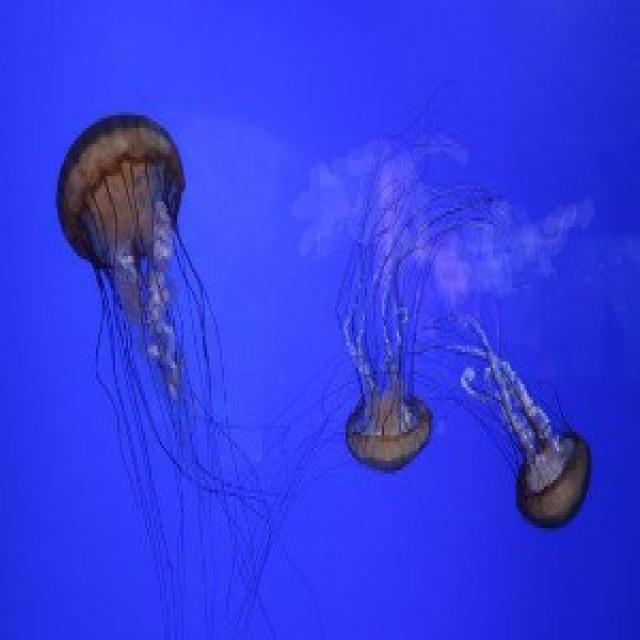Jellyfish: (53, 91, 195, 450), (340, 260, 439, 524), (491, 332, 606, 550)
